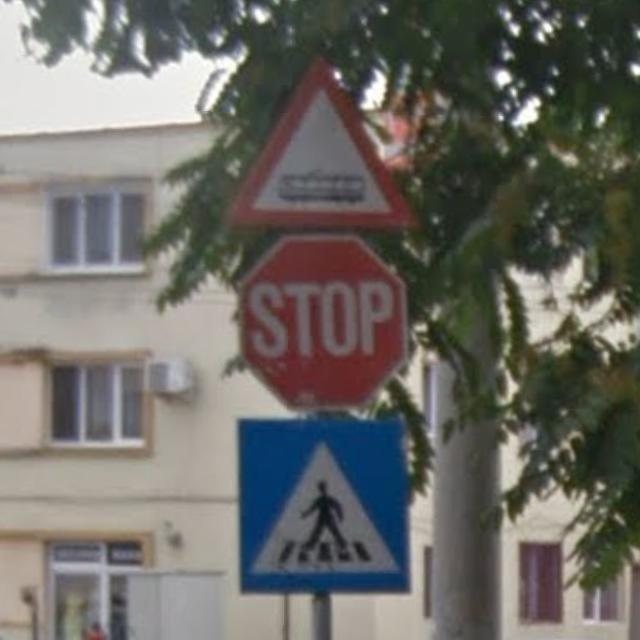info_crosswalk: (237, 419, 411, 597)
prio_stop: (238, 236, 411, 407)
